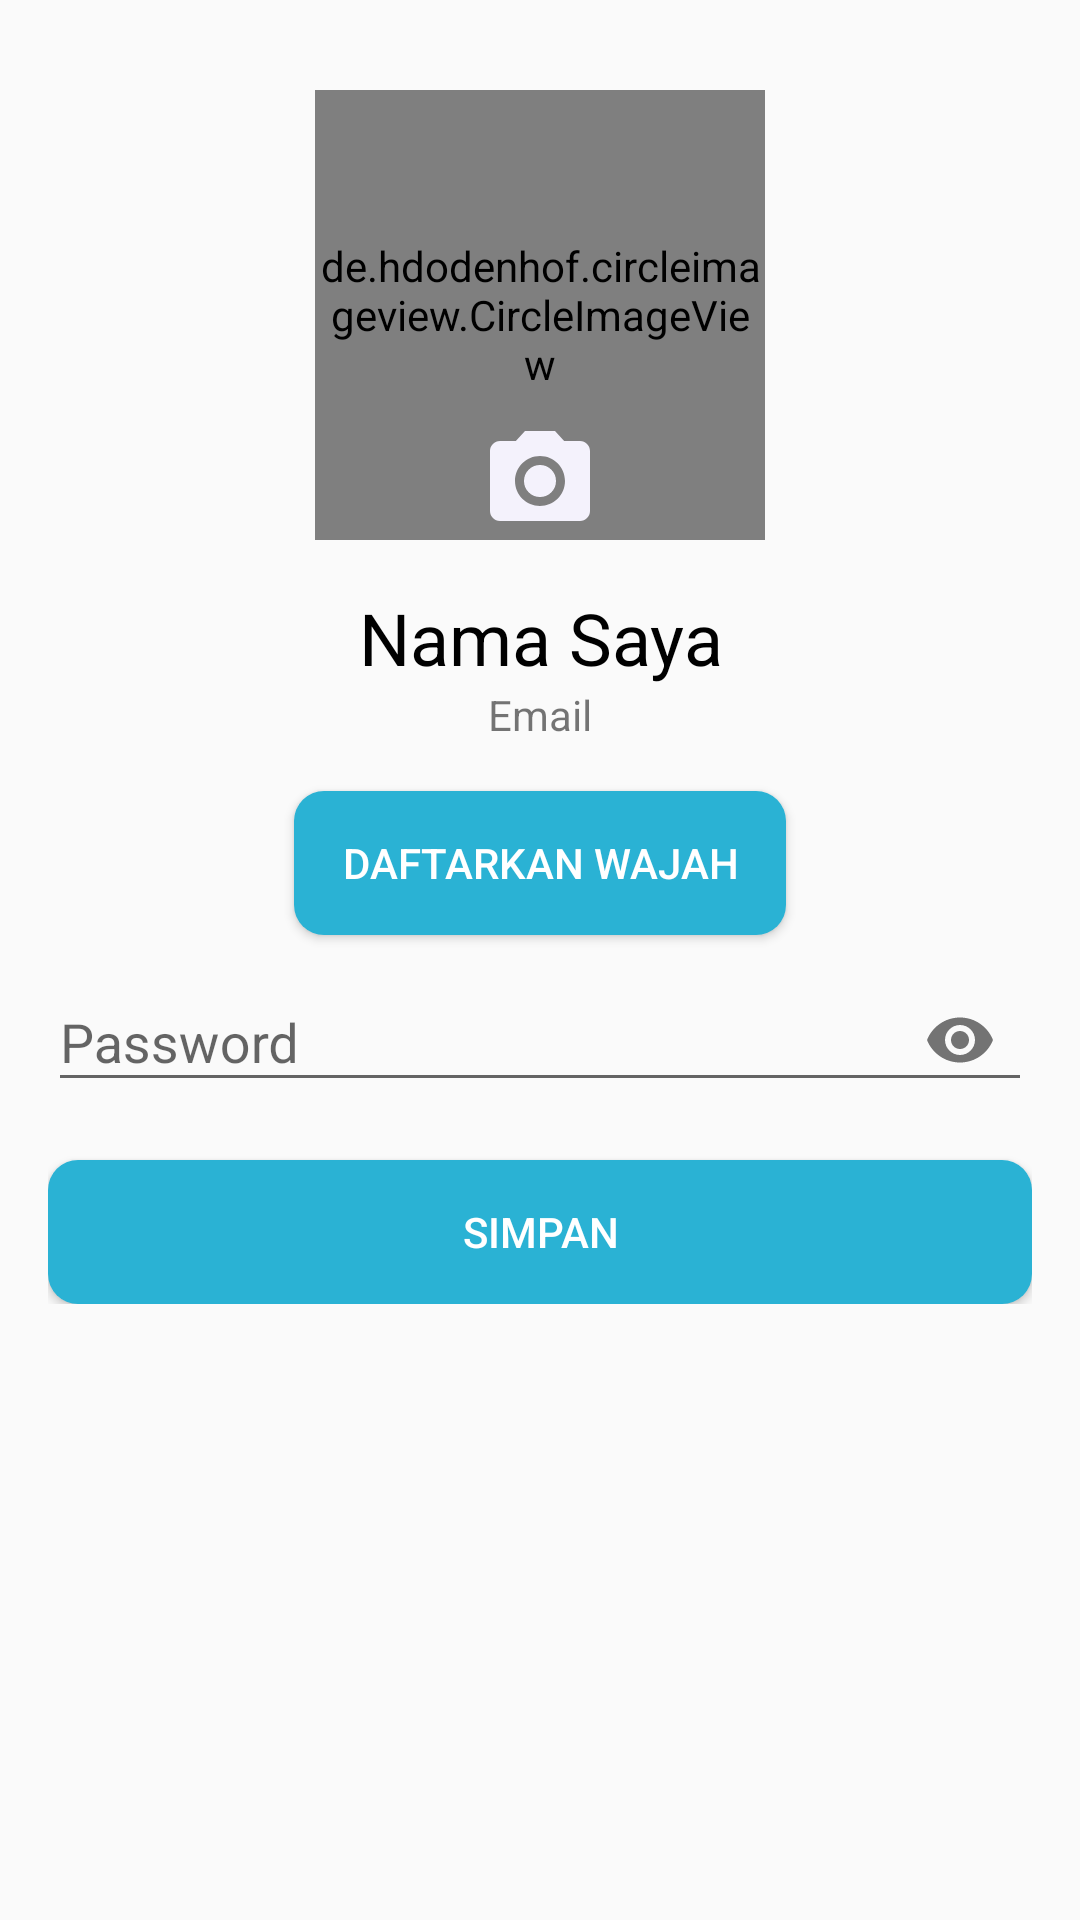

Icons on this 1080w x 1920h Android screen, each with its box as (x1, y1, x2, y2):
camera: (490, 431, 590, 521)
